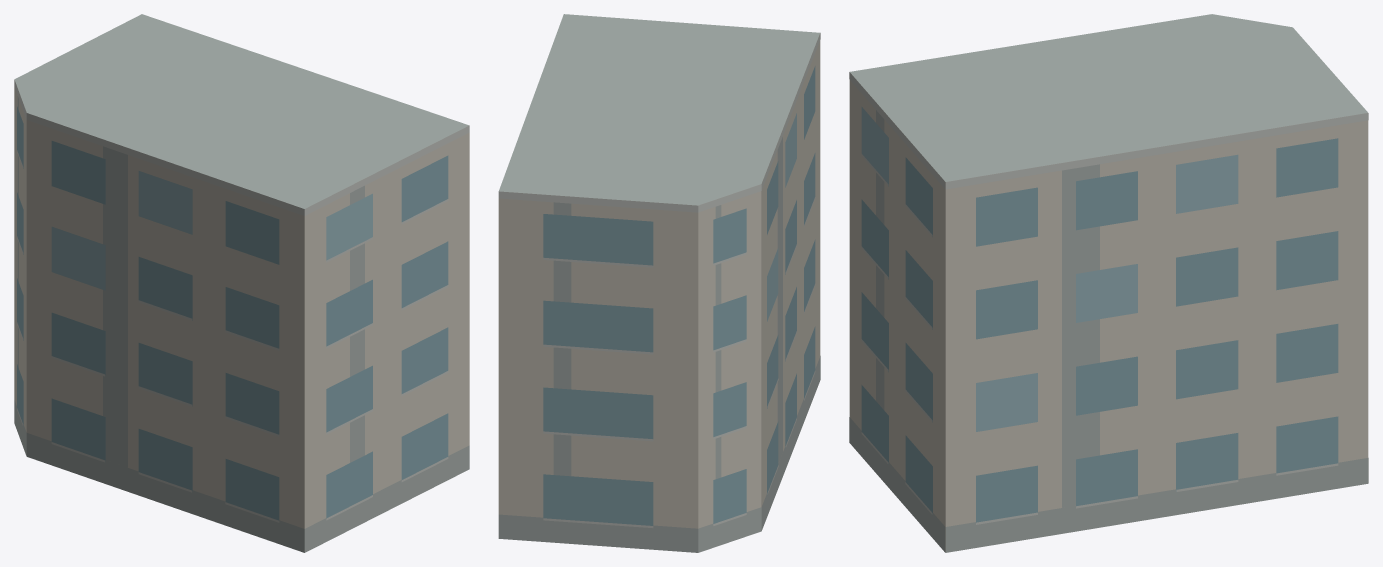
The model's file is residential-1949a158-0390-4bbe-a042-04cb8bb5c962.glb.
The picture shows the model from 3 angles, left to right: view 1: azimuth 30°, elevation 25°; view 2: azimuth 150°, elevation 25°; view 3: azimuth 270°, elevation 25°; orthographic projection. The views are drawn at different scales.
Visible parts, largest first — view 1: residential-1949a158-0390-4bbe-a042-04cb8bb5c962.tmp; view 2: residential-1949a158-0390-4bbe-a042-04cb8bb5c962.tmp; view 3: residential-1949a158-0390-4bbe-a042-04cb8bb5c962.tmp.
Part boxes in pixels (x1,y1,x2,y2): residential-1949a158-0390-4bbe-a042-04cb8bb5c962.tmp: [14, 14, 469, 552]; residential-1949a158-0390-4bbe-a042-04cb8bb5c962.tmp: [498, 14, 820, 552]; residential-1949a158-0390-4bbe-a042-04cb8bb5c962.tmp: [849, 14, 1368, 552].
Bounding box in the file's own units: 11.67 × 12 × 15.23.
